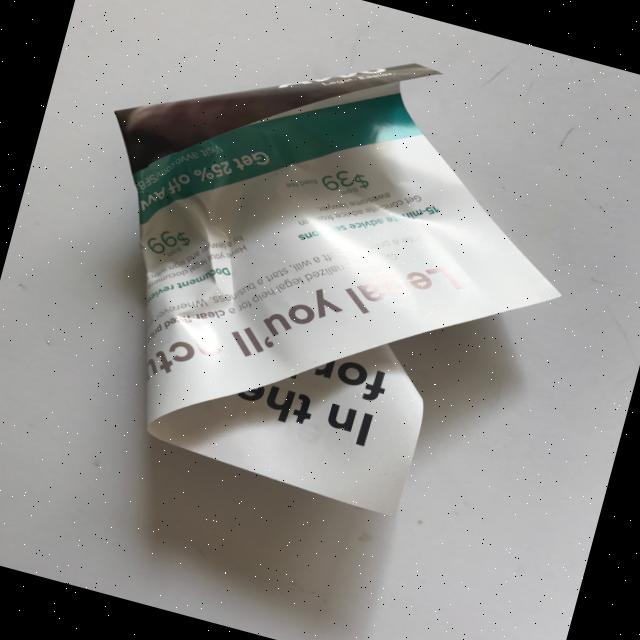paper: (30, 0, 609, 542)
